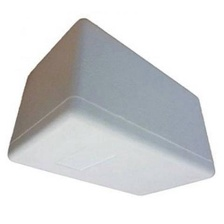foam_box: (3, 15, 217, 198)
